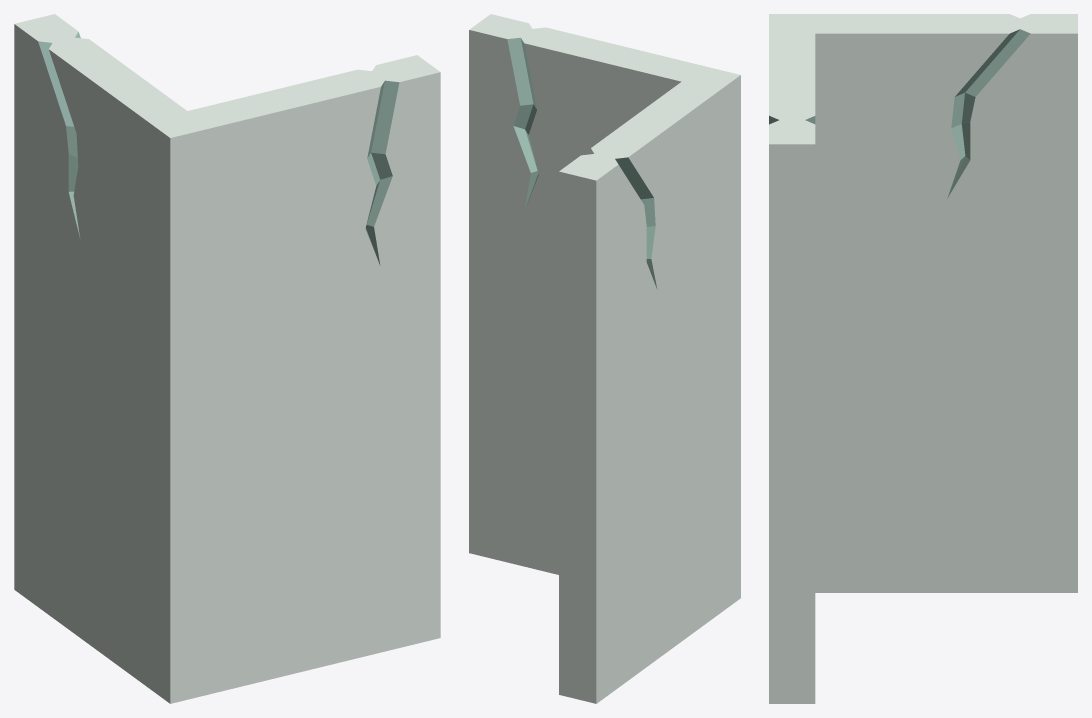
The model's file is CrackedCorner.glb.
3 views of the same model, side by side, from view 1: azimuth 30°, elevation 25°; view 2: azimuth 150°, elevation 25°; view 3: azimuth 270°, elevation 25° (orthographic). The views are drawn at different scales.
Visible parts, largest first — view 1: wall_cracked_corner; view 2: wall_cracked_corner; view 3: wall_cracked_corner.
Boxes of the visible parts, x1,y1,x2,y2 form: wall_cracked_corner: (14,14,440,703); wall_cracked_corner: (469,14,740,703); wall_cracked_corner: (769,14,1077,703).
Size of what is drawn, in the model's own units: 2 by 4 by 2.
Materials: 1 (1 with a texture image).
